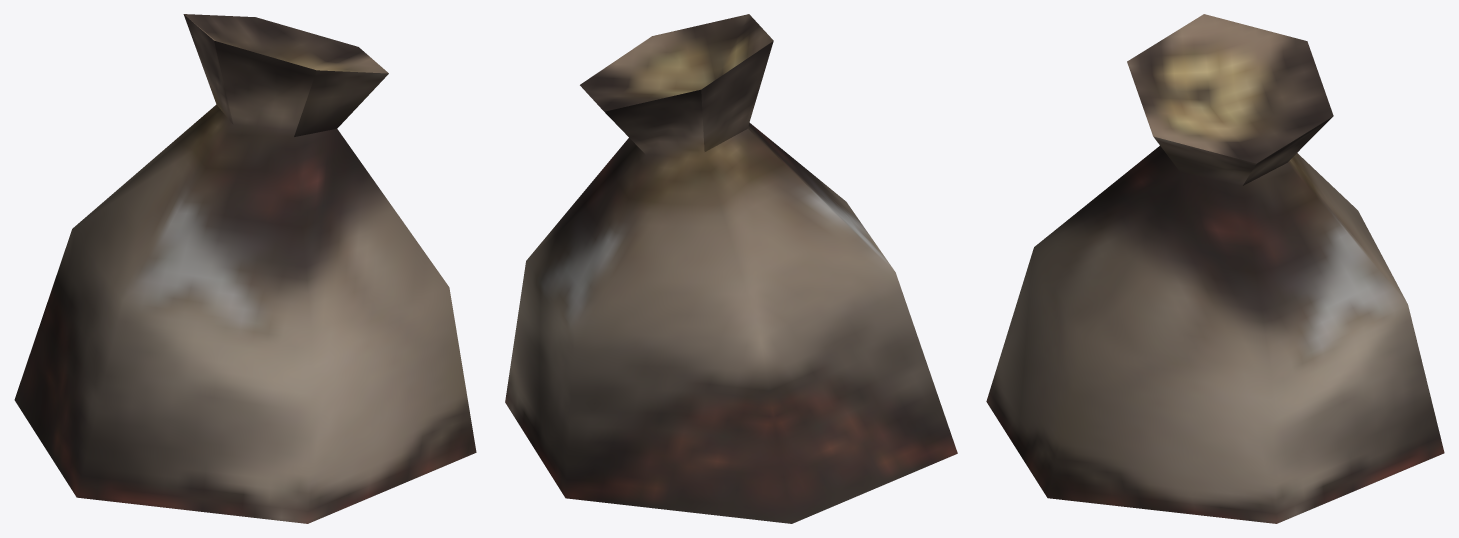
The model's file is sc_heishi_qiandai_001.FBX.
3 views of the same model, side by side, from view 1: azimuth 30°, elevation 25°; view 2: azimuth 150°, elevation 25°; view 3: azimuth 270°, elevation 25° (orthographic).
Visible parts, largest first — view 1: sc_heishi_qiandai_001; view 2: sc_heishi_qiandai_001; view 3: sc_heishi_qiandai_001.
Part boxes in pixels (box(x1,y1,x2,y2)): sc_heishi_qiandai_001: box(14, 14, 476, 523); sc_heishi_qiandai_001: box(505, 14, 957, 523); sc_heishi_qiandai_001: box(986, 14, 1444, 523).
Bounding box in the file's own units: 1.11 × 1.06 × 1.12.
Materials: 1 (1 with a texture image).
